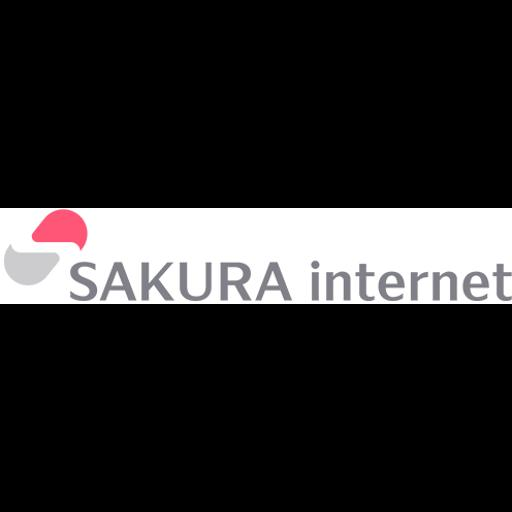Sakura Internet: (0, 208, 512, 304)
